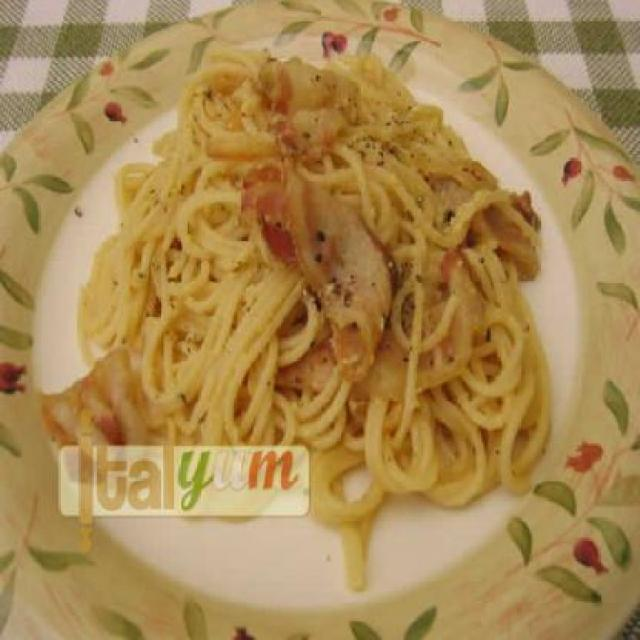Pasta with carbonara sauce: (34, 28, 616, 446)
